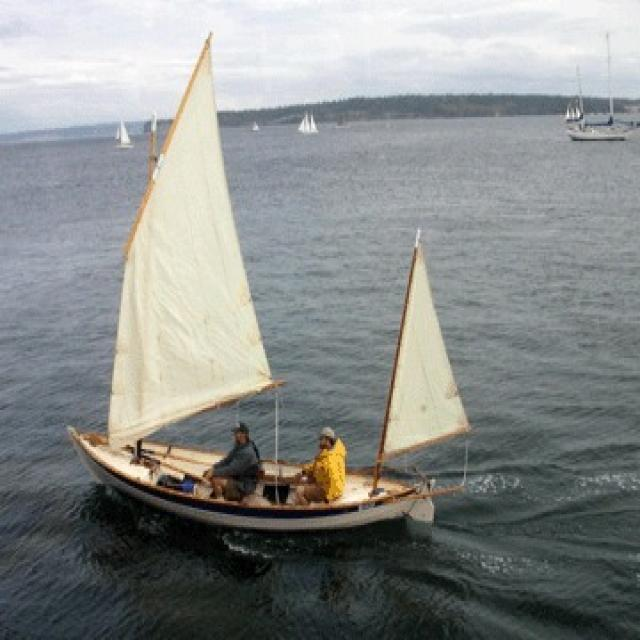Ship: (86, 29, 475, 531), (115, 120, 143, 149), (297, 114, 320, 138)
